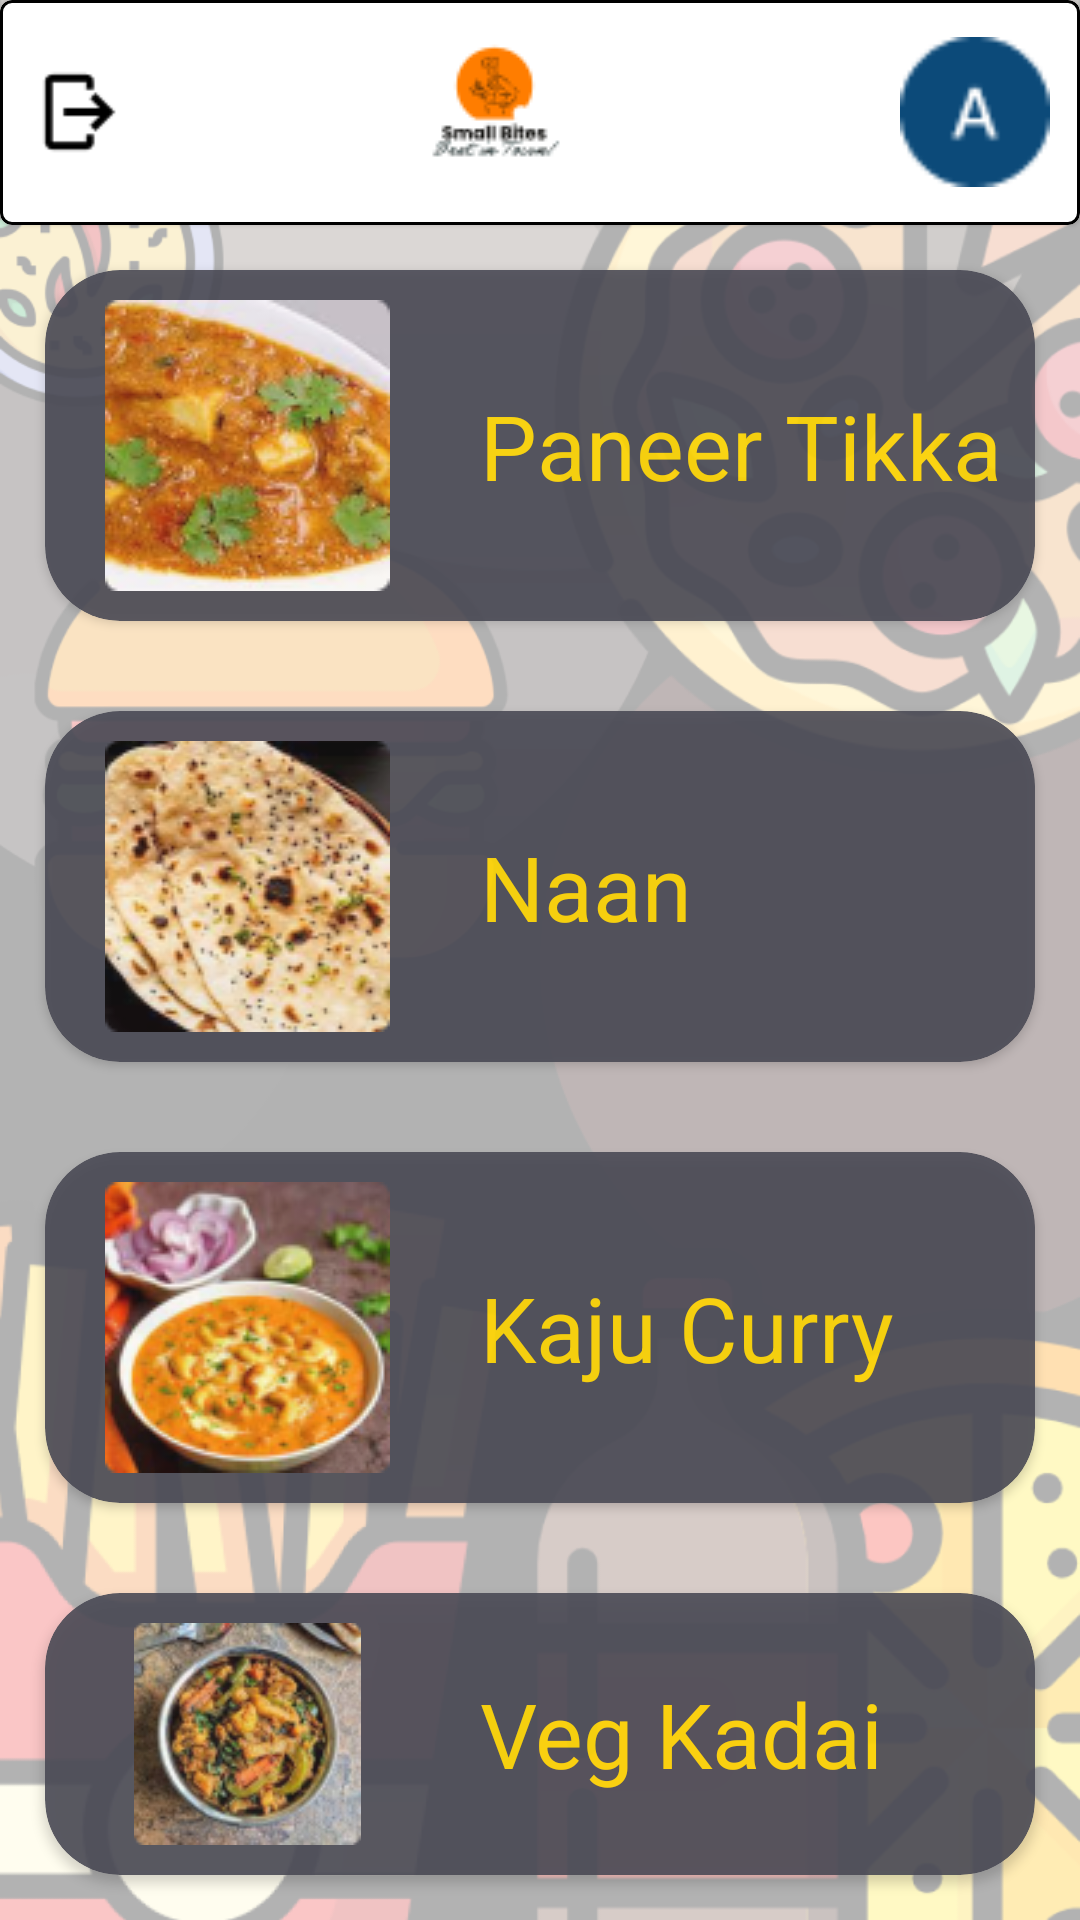

Icon bounding boxes for this 1080w x 1920h phone screenshot, format (x1, y1, x2, y2):
user: (900, 37, 1050, 187)
